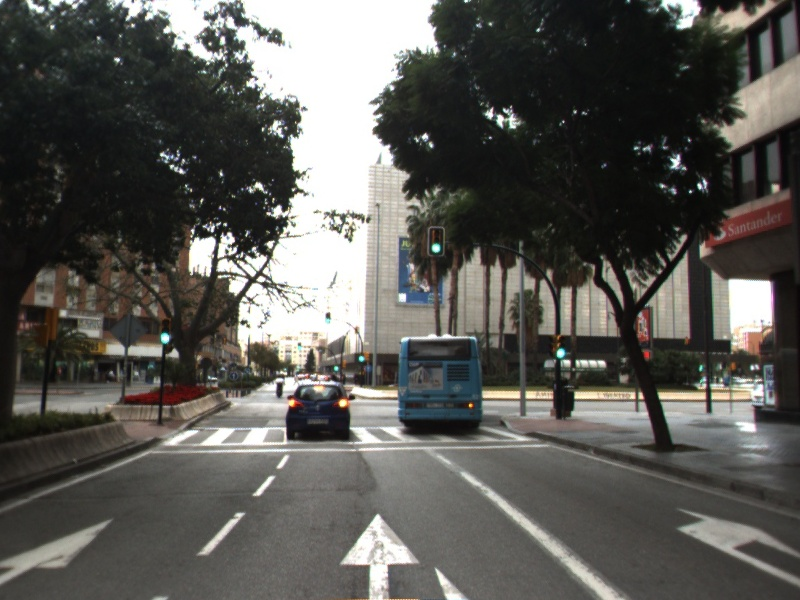RIGHT: (669, 504, 800, 589)
STRAIGHT: (1, 513, 121, 587), (336, 508, 424, 600)
